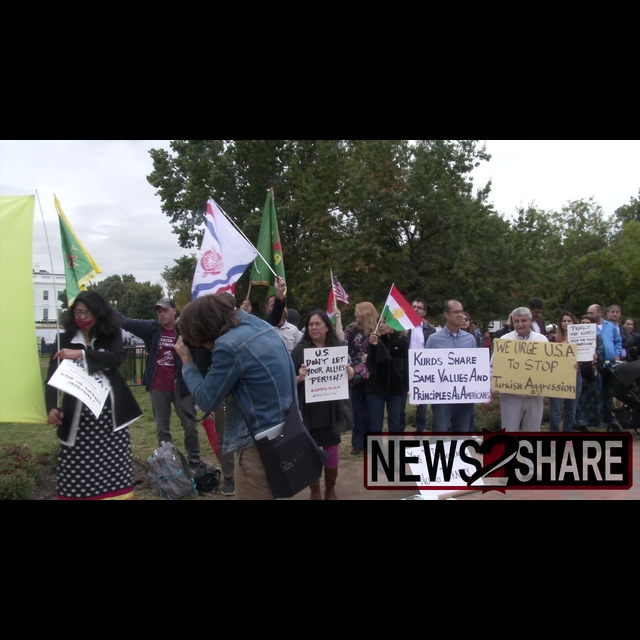IBKY: (387, 299, 409, 325)
